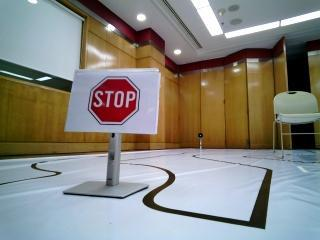stop: (81, 76, 148, 127)
